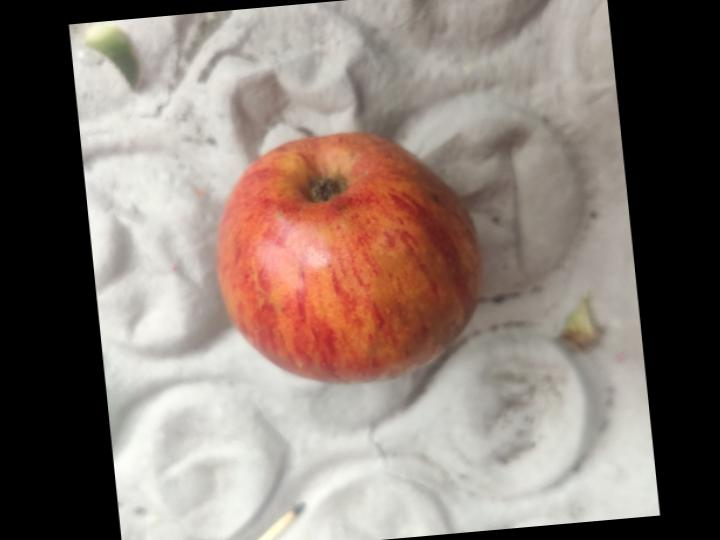apple: (217, 133, 480, 383)
bruise_discoloration: (365, 219, 469, 351)
